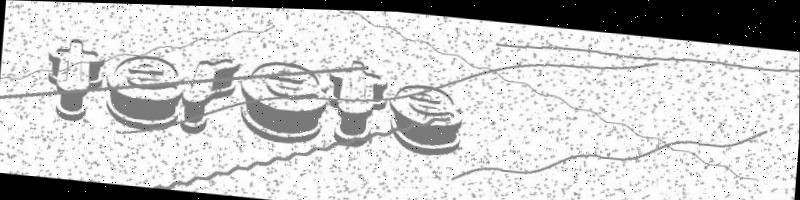e: (232, 52, 331, 147), (376, 72, 472, 158), (100, 48, 184, 133)
r: (173, 49, 241, 133)
t: (34, 31, 108, 123), (322, 52, 390, 146)
